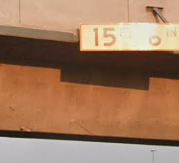1: (90, 25, 102, 48)
5: (101, 26, 118, 48)
6: (145, 25, 164, 47)
overheadsign: (78, 23, 179, 52)
